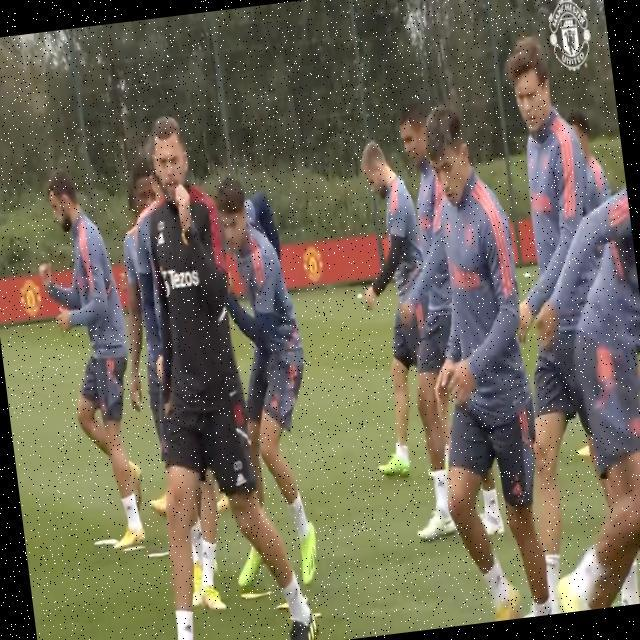Adidas: (154, 228, 167, 247), (511, 480, 524, 498), (234, 472, 247, 487)
